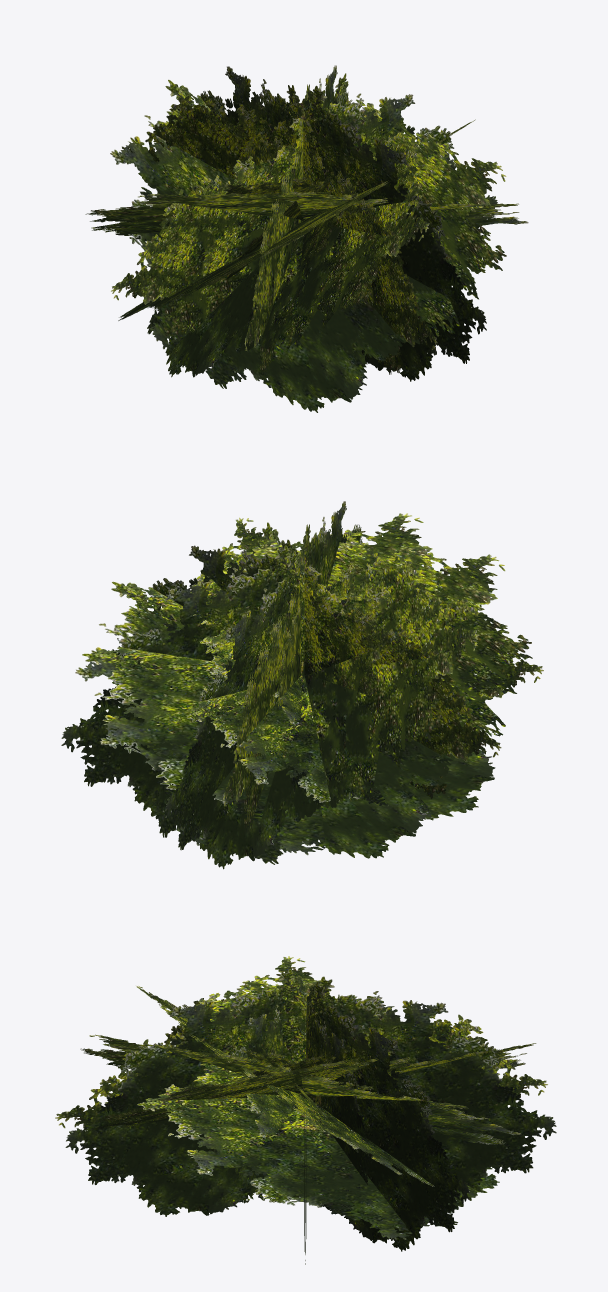
The model's file is Bush.fbx.
3 views of the same model, one above another, from view 1: azimuth 30°, elevation 25°; view 2: azimuth 150°, elevation 25°; view 3: azimuth 270°, elevation 25° (orthographic). The views are drawn at different scales.
Parts seen in each view (by area): view 1: pPlane66; view 2: pPlane66; view 3: pPlane66.
Boxes of the visible parts, left/top/right/bottom form: pPlane66: left=85, top=65, right=528, bottom=412; pPlane66: left=61, top=501, right=543, bottom=869; pPlane66: left=55, top=956, right=556, bottom=1264.
Bounding box in the file's own units: 186 × 111 × 225.
1 material, 1 textured.
